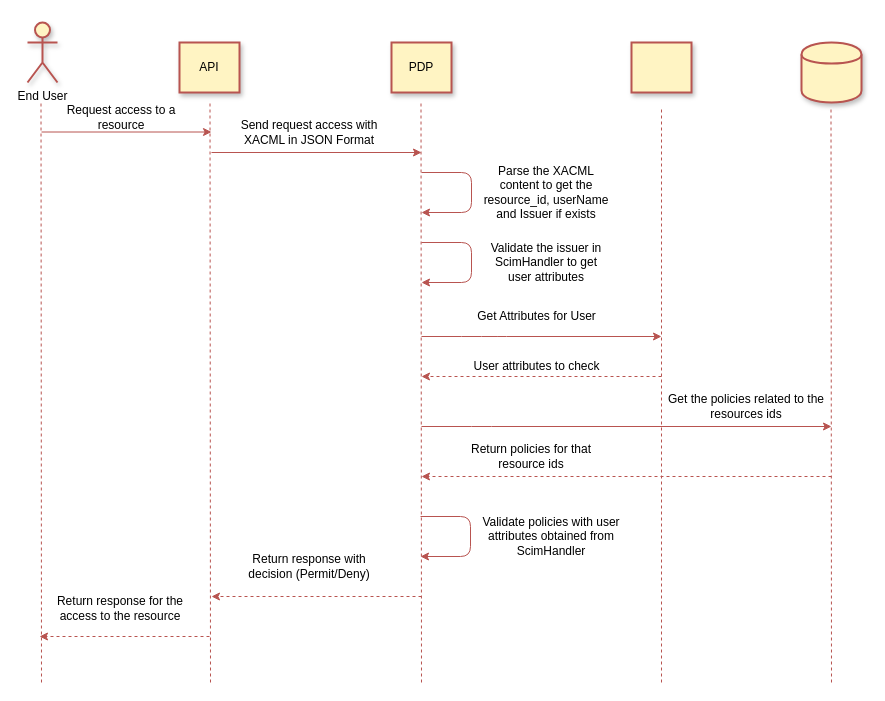
This 885x701 diagram has some shape labels left out. Here are the shapes that lost their labels. From the top down, the centre of each, then its label:
At pixel 662 68: "Login Service".
At pixel 832 73: "Back-end Database".
